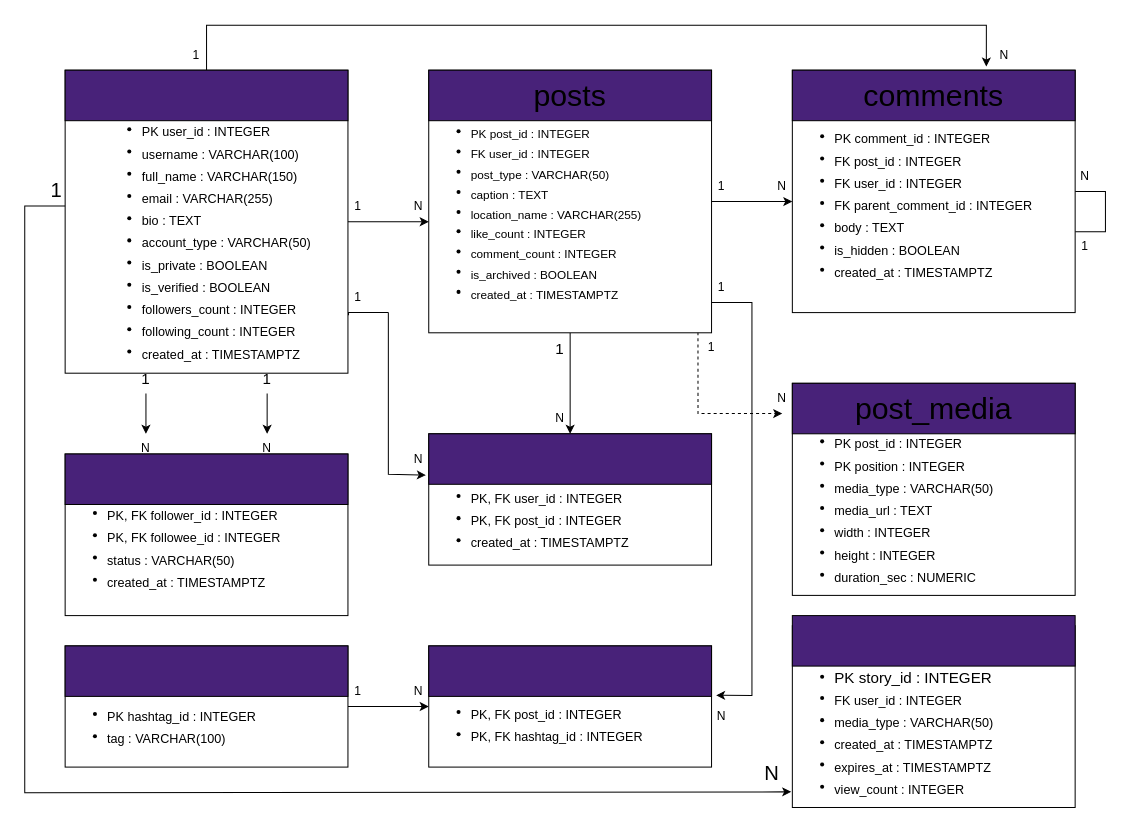
The diagram is 1133 pixels wide and 827 high, and some of its shapes have lost their labels. The shapes that lost their labels are listed below. From the top down, each one's centre as x and y in pixels, then its label:
[206,95]: users
[206,478]: follows
[570,458]: likes
[933,640]: stories
[206,670]: hashtags
[570,670]: post_hashtags
